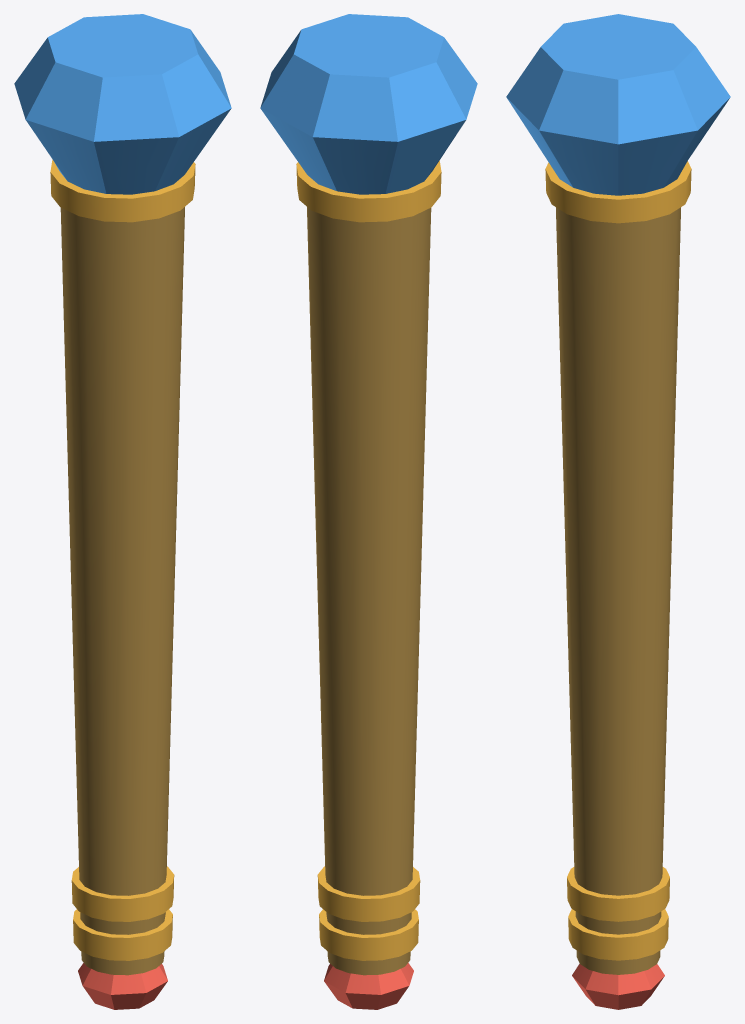
File: Stick B Multi.fbx
3 renders of one model, left to right at view 1: azimuth 30°, elevation 25°; view 2: azimuth 150°, elevation 25°; view 3: azimuth 270°, elevation 25°, orthographic.
Visible parts, largest first — view 1: Stick B Multi; view 2: Stick B Multi; view 3: Stick B Multi.
Boxes of the visible parts, x1,y1,x2,y2 form: Stick B Multi: (14,14,231,1009); Stick B Multi: (260,14,477,1009); Stick B Multi: (506,14,730,1009).
Size of the model in its own units: 0.3011 by 1.4 by 0.3011.
